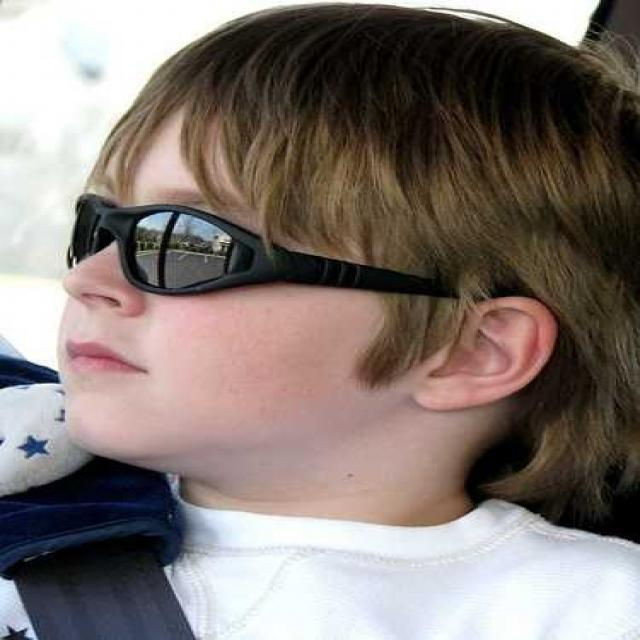seatbelt: (24, 485, 200, 636)
